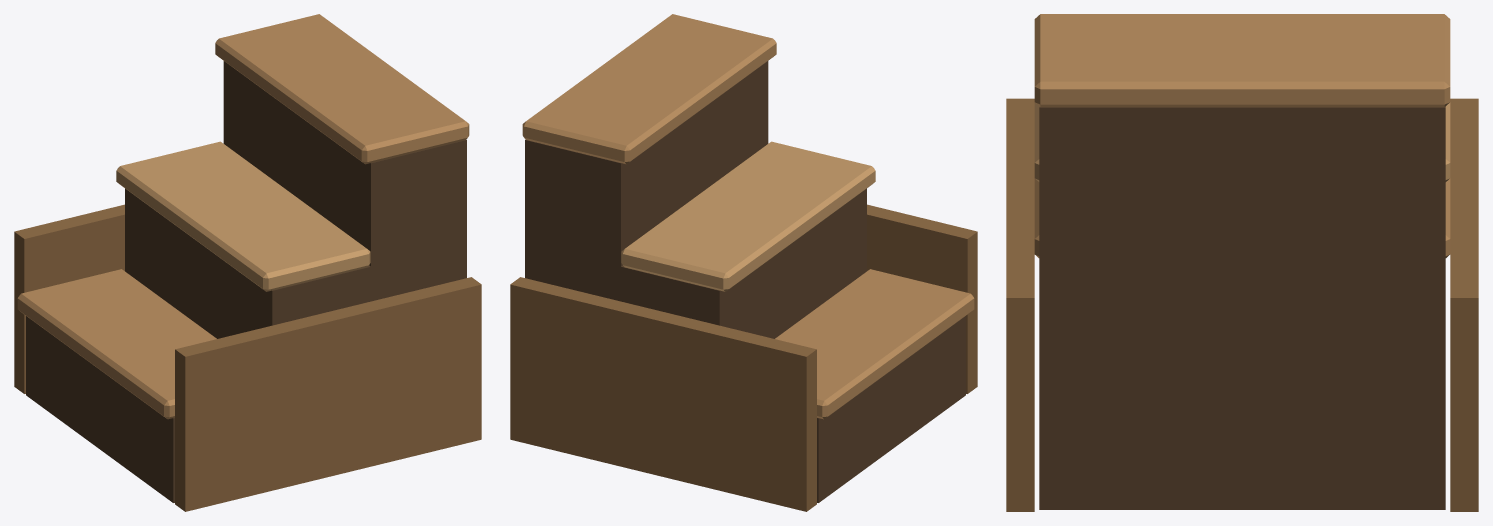
Rendered from escalier_bois.glb.
3 views of the same model, side by side, from view 1: azimuth 30°, elevation 25°; view 2: azimuth 150°, elevation 25°; view 3: azimuth 270°, elevation 25° (orthographic). The views are drawn at different scales.
Visible parts, largest first — view 1: escalier_bois_planche_sombre.002, escalier_bois_bois_sombre.002, escalier_bois_planche.002, escalier_bois_planche_claire.002; view 2: escalier_bois_planche_sombre.002, escalier_bois_bois_sombre.002, escalier_bois_planche.002, escalier_bois_planche_claire.002; view 3: escalier_bois_bois_sombre.002, escalier_bois_planche.002, escalier_bois_planche_sombre.002, escalier_bois_planche_claire.002.
Part boxes in pixels (x1,y1,x2,y2): escalier_bois_planche_sombre.002: (14,204,481,511); escalier_bois_bois_sombre.002: (26,61,466,502); escalier_bois_planche.002: (17,14,469,419); escalier_bois_planche_claire.002: (116,141,370,291); escalier_bois_planche_sombre.002: (510,204,977,511); escalier_bois_bois_sombre.002: (525,61,965,502); escalier_bois_planche.002: (522,14,974,419); escalier_bois_planche_claire.002: (621,141,875,291); escalier_bois_bois_sombre.002: (1039,107,1445,509); escalier_bois_planche.002: (1034,14,1450,257); escalier_bois_planche_sombre.002: (1006,98,1478,511); escalier_bois_planche_claire.002: (1034,102,1450,181).
Bounding box in the file's own units: 0.515 × 0.5 × 0.5.
